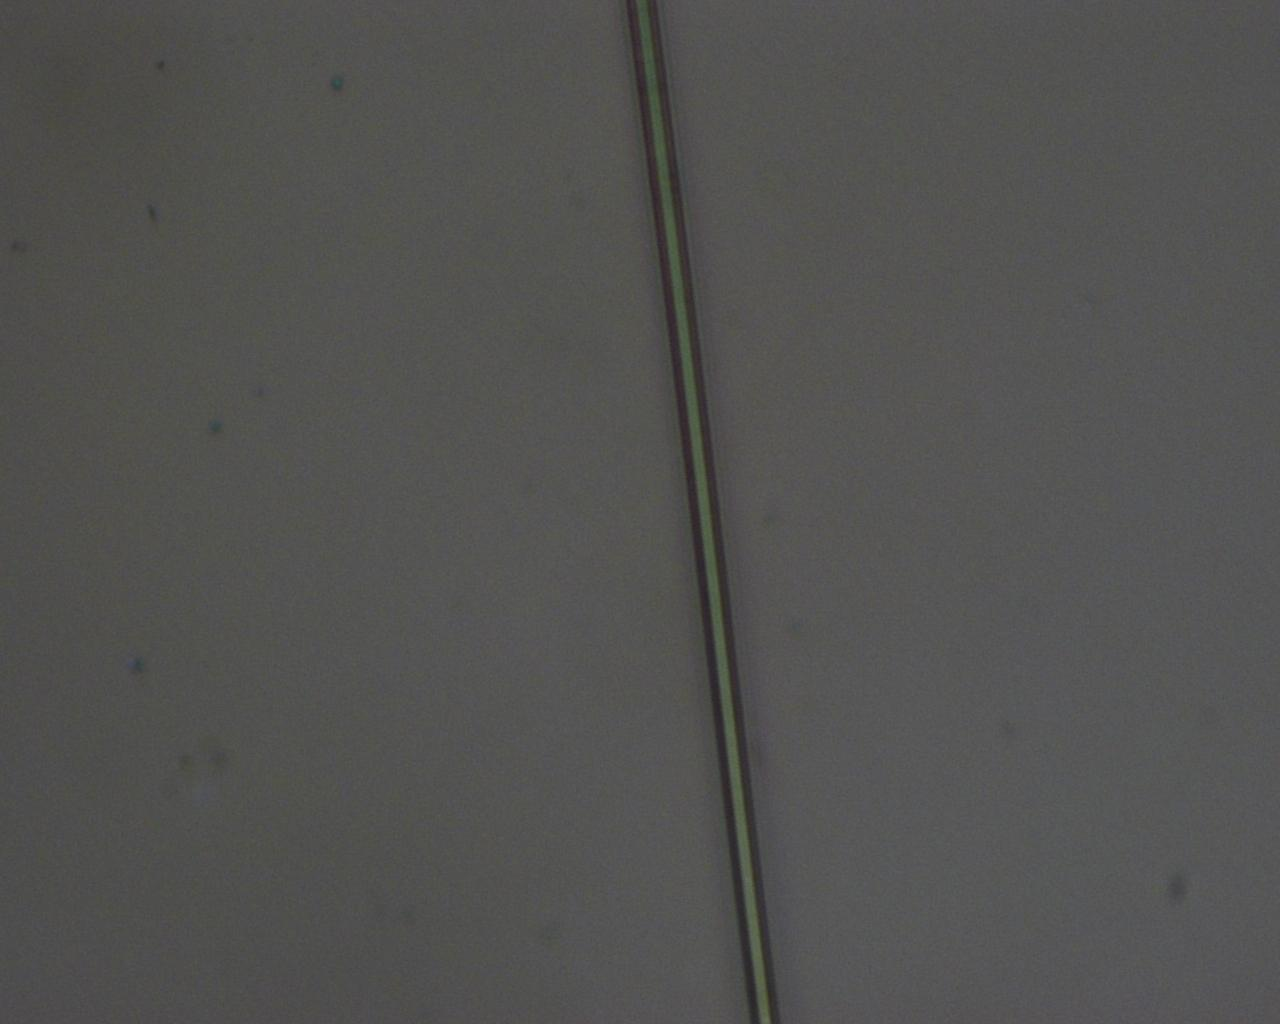fiber: (626, 0, 782, 1024)
